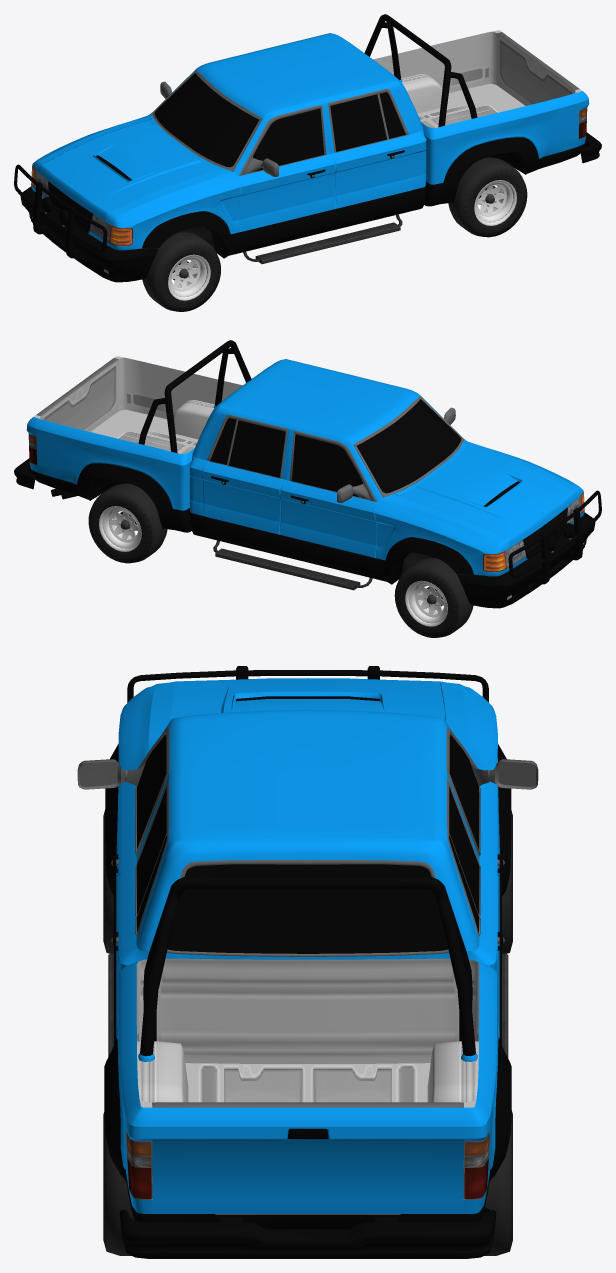
Rendered from hilux.glb.
The picture shows the model from 3 angles, top to bottom: view 1: azimuth 30°, elevation 25°; view 2: azimuth 150°, elevation 25°; view 3: azimuth 270°, elevation 25°; orthographic projection. The views are drawn at different scales.
Parts seen in each view (by area): view 1: body_body_0, glass_glass_0, hood_body_0, trunk_doorshut_0, body_body_secondary_0, fender_left_body_0, wheel_02_tiers_0, wheel_01_tiers_0, trunk_door_doorshut_0, body_plastic_0, BOTTOM_Material #2255_0, trunk_bars_chrome_0 (+11 smaller); view 2: body_body_0, glass_glass_0, hood_body_0, trunk_doorshut_0, body_body_secondary_0, fender_left_body_0, wheel_03_tiers_0, wheel_04_tiers_0, trunk_door_doorshut_0, body_plastic_0, BOTTOM_Material #2255_0, trunk_bars_chrome_0 (+11 smaller); view 3: body_body_0, trunk_doorshut_0, trunk_door_body_0, interior_void_0, bumper_rear_02_krm_lgtbdy_chrome_0, trunk_bars_chrome_0, hood_body_0, body_plastic_0, body_body_secondary_0, glass_glass_0, fender_left_body_0, bumper_bars_chrome_0 (+8 smaller).
Part boxes in pixels (x1,y1,x2,y2): body_body_0: (149,33,589,231); glass_glass_0: (154,73,405,171); hood_body_0: (38,120,216,220); trunk_doorshut_0: (373,30,581,127); body_body_secondary_0: (240,137,585,252); fender_left_body_0: (31,112,240,250); wheel_02_tiers_0: (448,157,527,237); wheel_01_tiers_0: (142,232,220,311); trunk_door_doorshut_0: (497,33,574,105); body_plastic_0: (152,70,408,177); BOTTOM_Material #2255_0: (86,152,526,280); trunk_bars_chrome_0: (364,14,477,127); body_body_0: (26,359,466,557); glass_glass_0: (210,399,461,497); hood_body_0: (399,446,576,546); trunk_doorshut_0: (34,356,242,453); body_body_secondary_0: (30,463,375,578); fender_left_body_0: (375,439,584,576); wheel_03_tiers_0: (88,483,167,563); wheel_04_tiers_0: (394,558,473,637); trunk_door_doorshut_0: (41,359,118,431); body_plastic_0: (207,396,463,503); BOTTOM_Material #2255_0: (36,478,529,606); trunk_bars_chrome_0: (138,340,251,453); body_body_0: (116,709,499,1213); trunk_doorshut_0: (136,958,479,1214); trunk_door_body_0: (152,1107,463,1213); interior_void_0: (167,836,449,953); bumper_rear_02_krm_lgtbdy_chrome_0: (119,1209,496,1258); trunk_bars_chrome_0: (140,876,475,1056); hood_body_0: (170,678,445,719); body_plastic_0: (77,727,538,956); body_body_secondary_0: (104,872,511,1229); glass_glass_0: (137,735,479,932); fender_left_body_0: (116,681,499,867); bumper_bars_chrome_0: (127,666,488,702).
Size of the model in its own units: 205 by 66.23 by 80.47.
18 materials, 7 textured.
